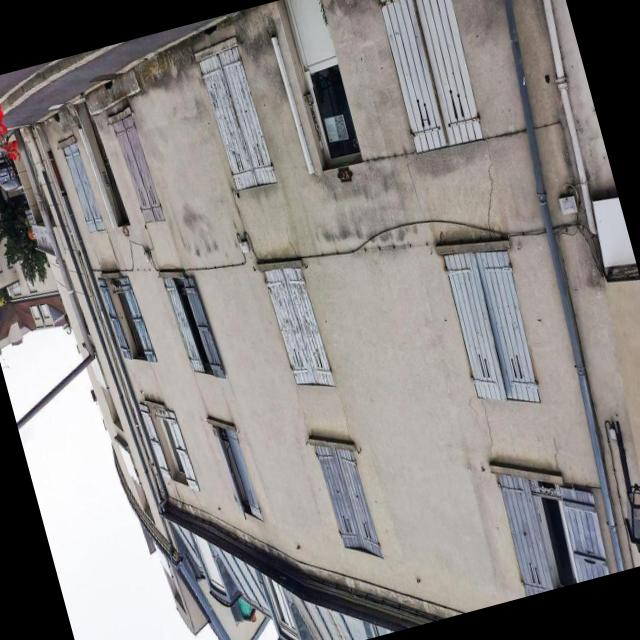crack: (485, 143, 494, 238), (480, 402, 493, 464)
